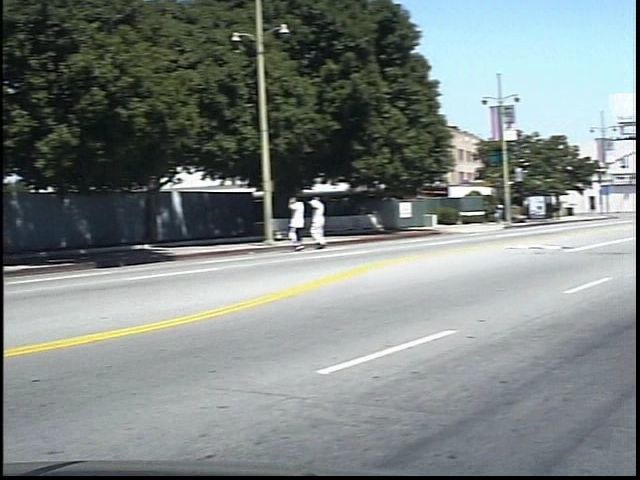person: (302, 193, 327, 256), (324, 195, 350, 255)
